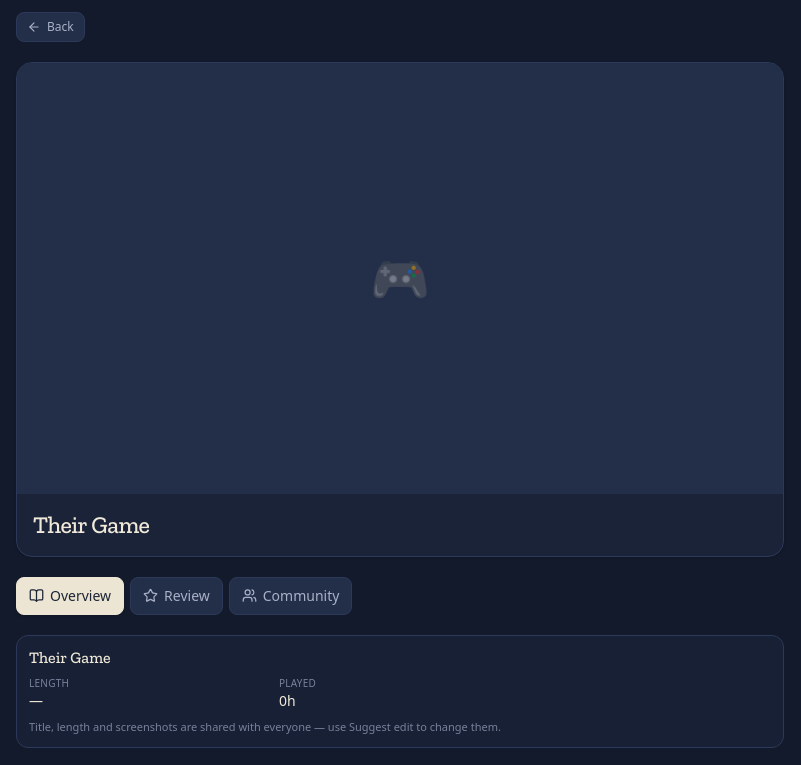
Test: GamePage › offers visitors the Review tab when the owner left one
This screenshot has width=801, height=765.
Click the tab "Review": (176, 596) [130, 577, 223, 615]
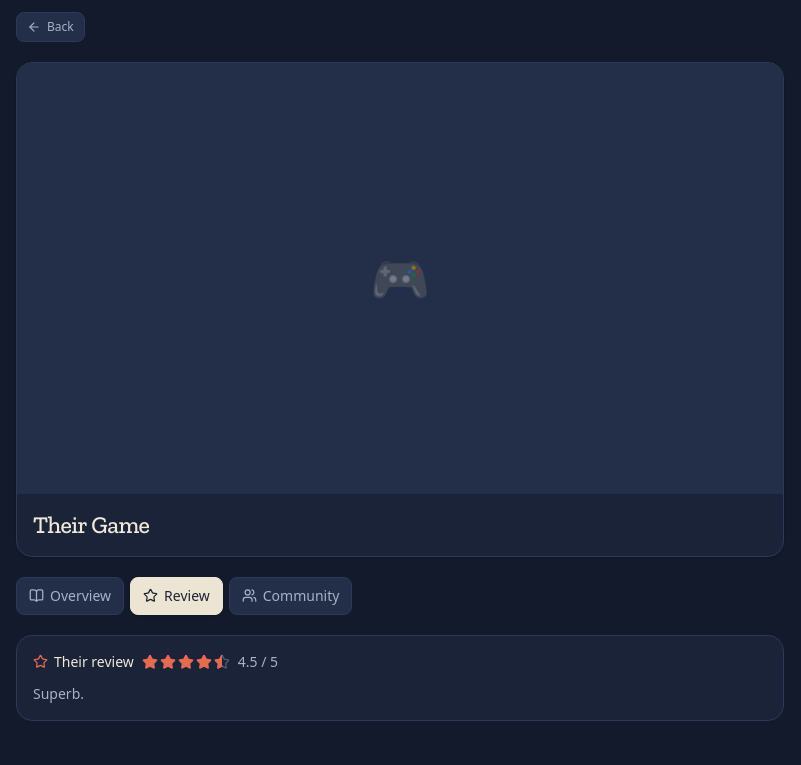
expect the text "Superb." is shown: met, box [33, 684, 84, 703]
